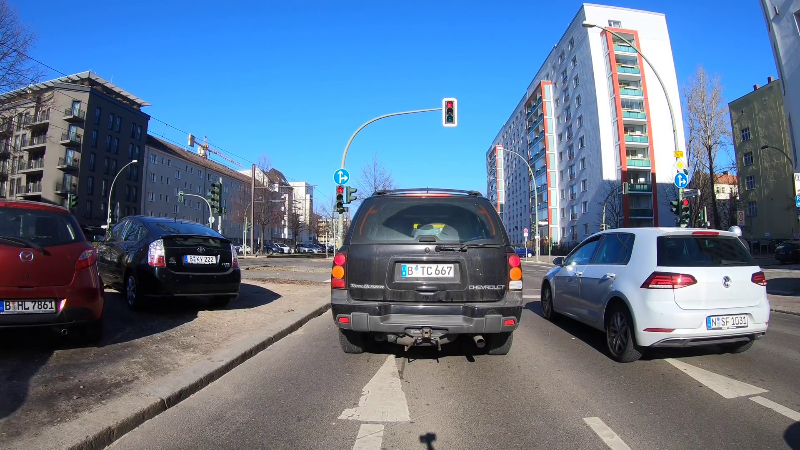Plate: (1, 297, 61, 315), (398, 262, 457, 280), (703, 314, 754, 331), (180, 252, 218, 267)
